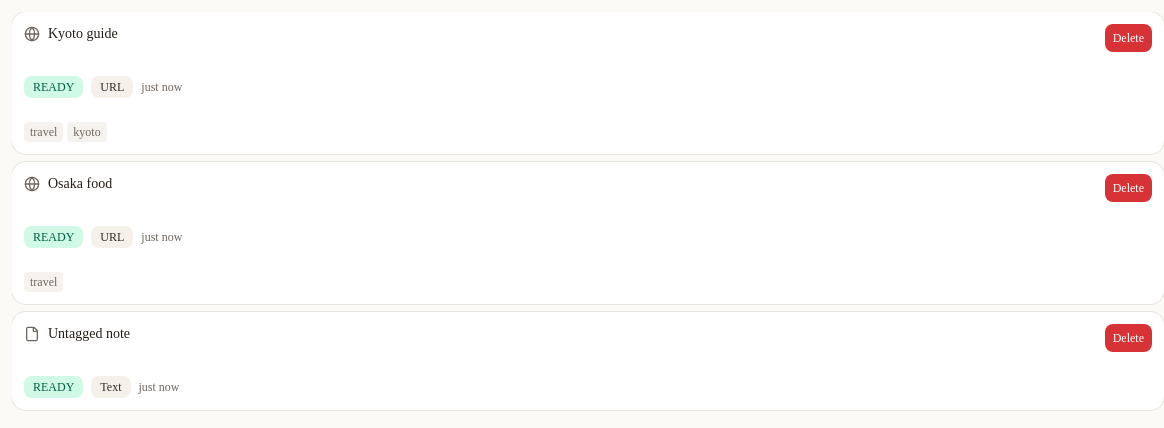
Test case: LibraryList tag filtering › filters by a clicked tag, hides untagged docs, and shows Clear + a pill
expect the text "Untagged note" is shown: met, box [48,324,130,344]
Click the button "kyoto" at [87, 132], box [67,122,107,142]
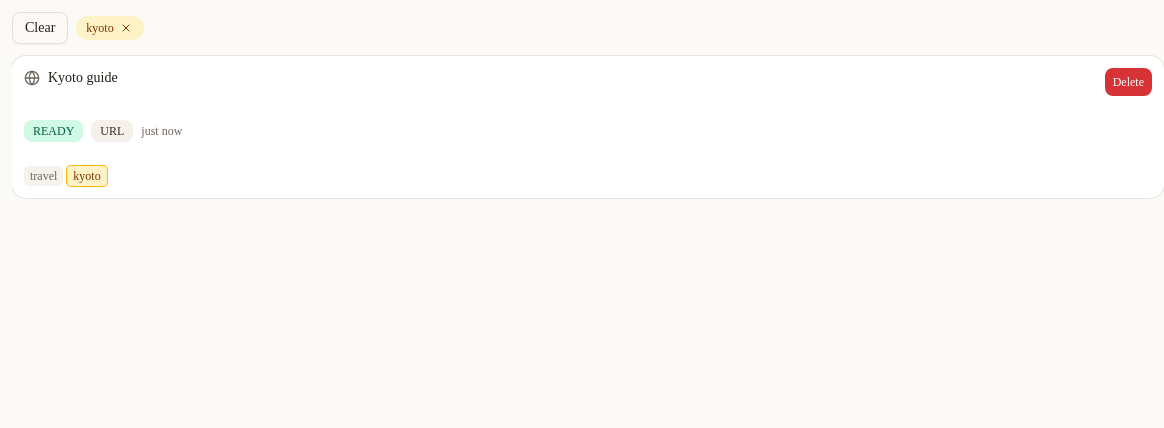
expect the text "Osaka food" is gone: met
expect the text "Untagged note" is gone: met
expect the button "Clear" is shown: met, box [12,12,68,44]
